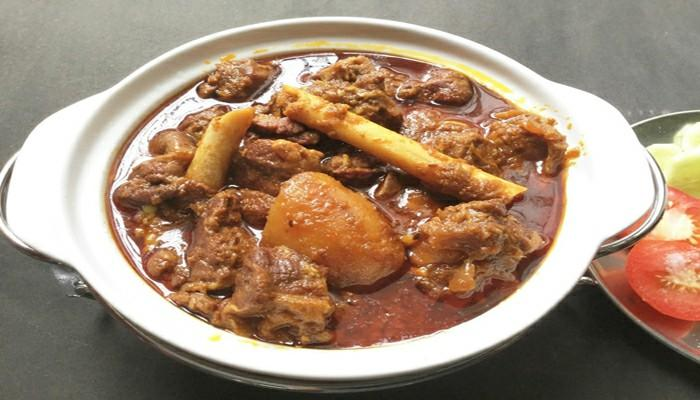MuttonCurry: (109, 45, 570, 349)
